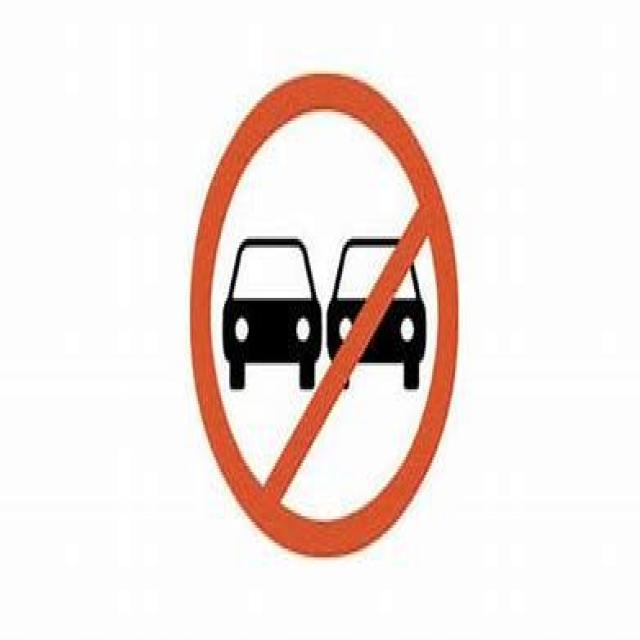OVERTAKING_PROHIBITED: (188, 74, 464, 560)
